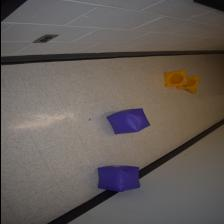cone: (162, 69, 188, 88), (176, 76, 198, 94)
cube: (96, 164, 140, 192), (105, 108, 150, 135)
